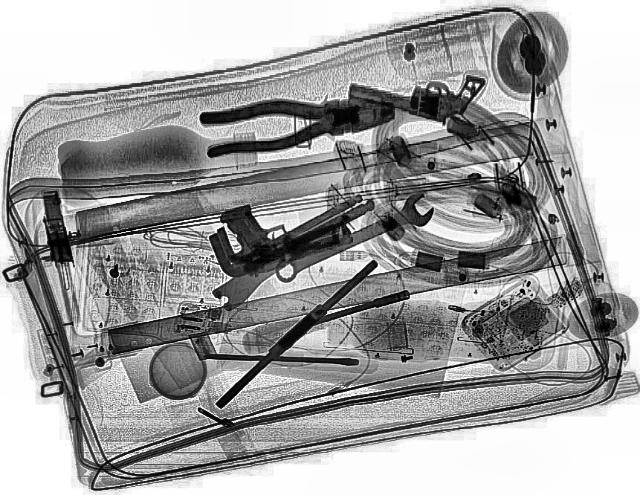Gun: (208, 180, 356, 278), (339, 45, 488, 128)
Pliers: (197, 88, 401, 156)
Wrench: (261, 189, 445, 284)
